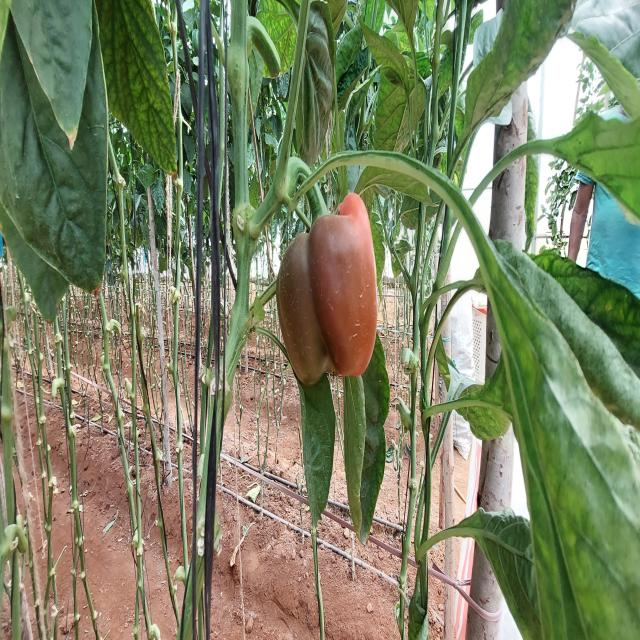BrownishRed--Can-be-Harvested: (282, 226, 388, 405)
